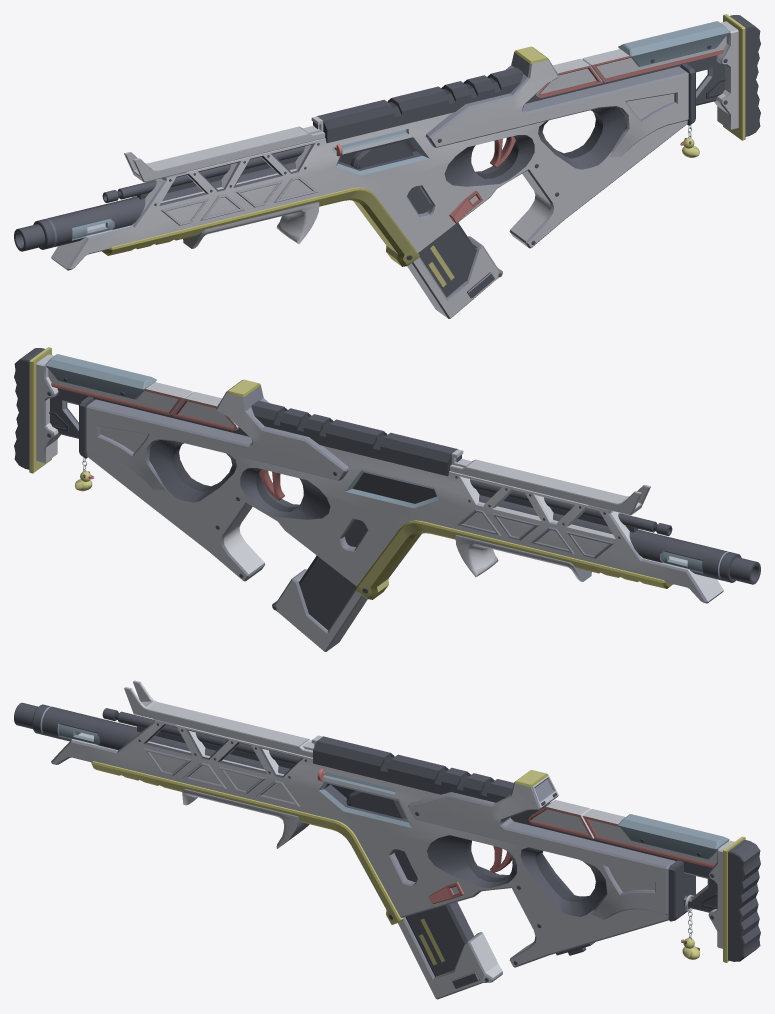
File: duck_carbine.fbx
3 views of the same model, one above another, from view 1: azimuth 30°, elevation 25°; view 2: azimuth 150°, elevation 25°; view 3: azimuth 330°, elevation 25° (orthographic).
Visible parts, largest first — view 1: polySurface27, polySurface14, pCube4, polySurface32, polySurface19, pCylinder1, polySurface6, pCube14, pCube5, polySurface20, polySurface33, pCube19 (+7 smaller); view 2: polySurface27, polySurface14, pCube4, polySurface32, pCylinder1, polySurface6, pCube14, polySurface19, polySurface20, pCube5, polySurface33, pCube19 (+8 smaller); view 3: polySurface27, polySurface14, pCube4, polySurface19, polySurface6, polySurface23, pCylinder1, pCube14, polySurface32, polySurface20, pCube5, pCube16 (+6 smaller).
Boxes of the visible parts, x1,y1,x2,y2 form: polySurface27: (51,93,687,270); polySurface14: (425,46,688,157); pCube4: (313,67,523,143); polySurface32: (102,187,419,266); polySurface19: (350,141,475,297); pCylinder1: (33,162,295,249); polySurface6: (124,125,325,182); pCube14: (535,36,726,97); pCube5: (618,21,729,66); polySurface20: (407,236,502,318); polySurface33: (183,202,319,248); pCube19: (714,21,738,130); polySurface27: (87,426,723,603); polySurface14: (86,379,349,490); pCube4: (251,400,461,476); polySurface32: (355,520,672,599); pCylinder1: (479,495,741,582); polySurface6: (449,458,650,515); pCube14: (48,369,239,430); polySurface19: (299,519,367,630); polySurface20: (272,569,367,651); pCube5: (45,354,156,399); polySurface33: (455,535,591,581); pCube19: (36,354,60,463); polySurface27: (51,719,668,967); polySurface14: (408,770,675,919); pCube4: (313,736,513,802); polySurface19: (346,790,473,976); polySurface6: (124,680,312,757); polySurface23: (728,839,760,961); pCylinder1: (32,704,289,774); pCube14: (528,800,727,867); polySurface32: (91,761,403,924); polySurface20: (398,917,502,999); pCube5: (618,814,729,859); pCube16: (510,803,717,912).
Bounding box in the file's own units: 24.83 × 7.73 × 1.39.
